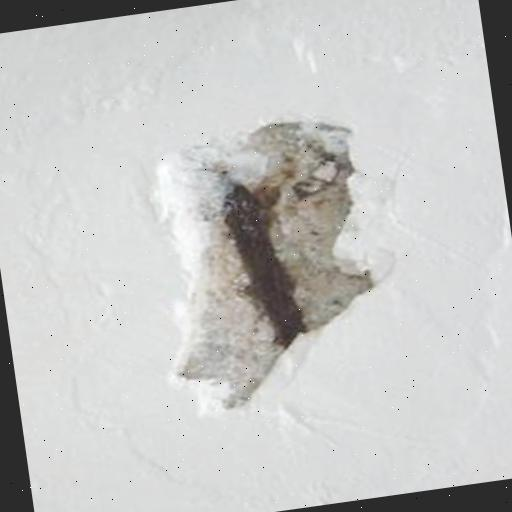spalling: (121, 104, 401, 426)
